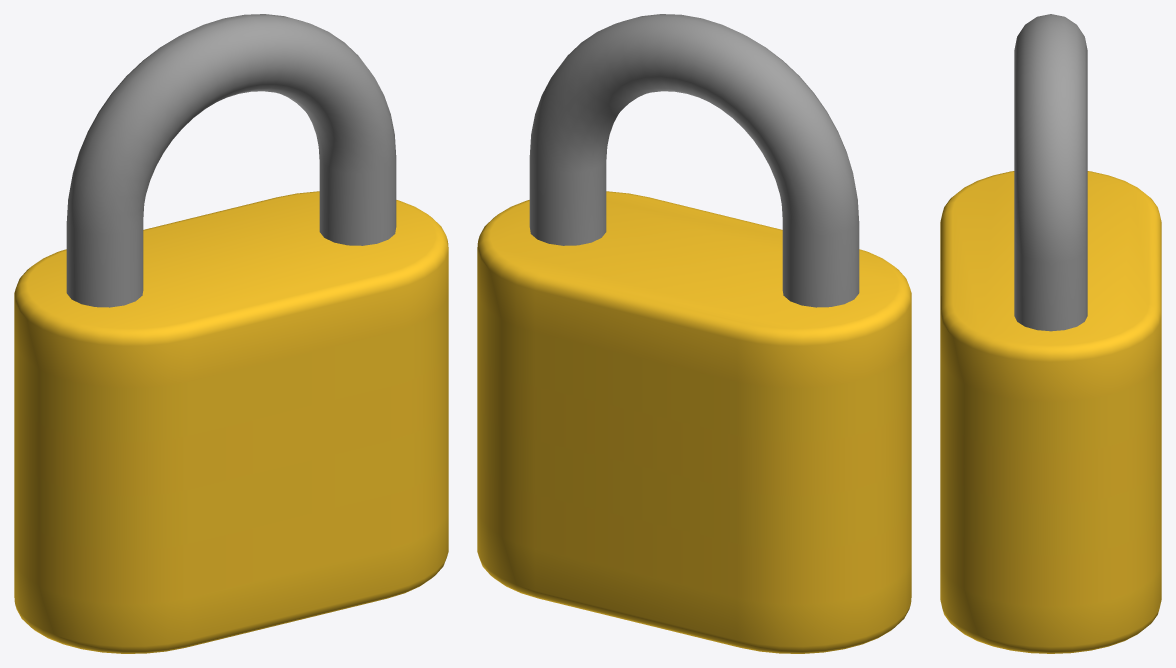
The model's file is locked.gltf.
3 views of the same model, side by side, from view 1: azimuth 30°, elevation 25°; view 2: azimuth 150°, elevation 25°; view 3: azimuth 270°, elevation 25° (orthographic). The views are drawn at different scales.
Parts seen in each view (by area): view 1: Circle.2577; view 2: Circle.2577; view 3: Circle.2577.
Boxes of the visible parts, x1,y1,x2,y2 form: Circle.2577: (14,14,448,653); Circle.2577: (477,14,911,653); Circle.2577: (940,14,1161,653).
Size of the model in its own units: 1.6 by 2.17 by 0.8.
Materials: 1 (1 with a texture image).
